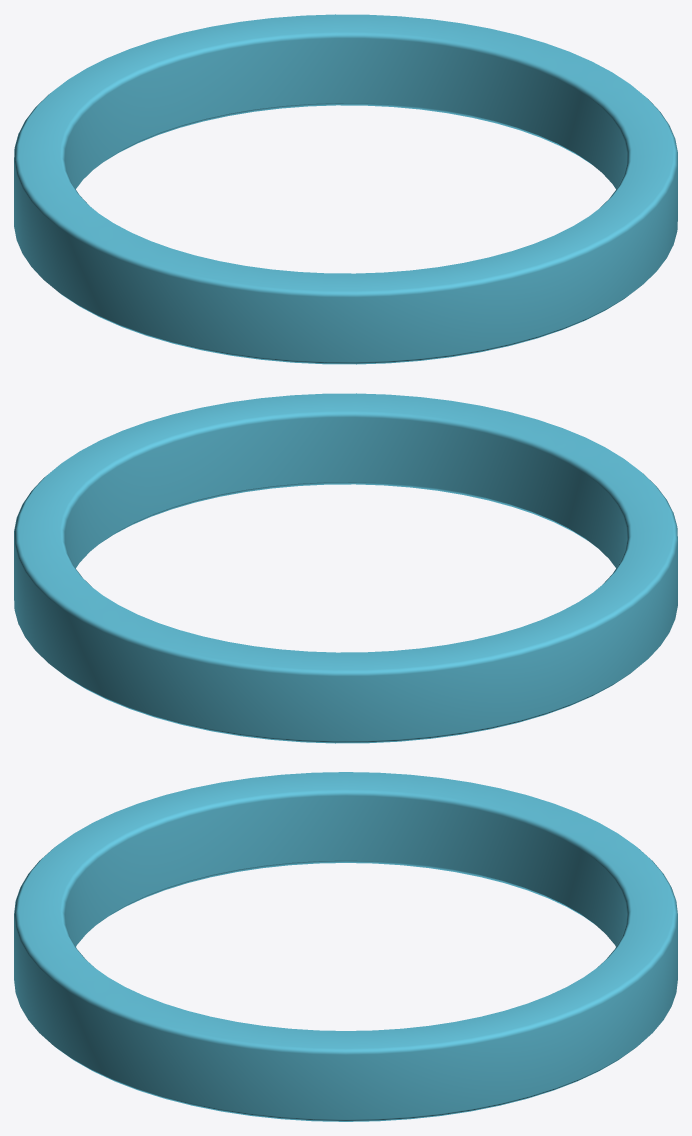
3 views of the same model, one above another, from view 1: azimuth 30°, elevation 25°; view 2: azimuth 150°, elevation 25°; view 3: azimuth 270°, elevation 25° (orthographic).
Visible parts, largest first — view 1: seal_body; view 2: seal_body; view 3: seal_body.
Part boxes in pixels (x1,y1,x2,y2): seal_body: (14,14,677,364); seal_body: (14,393,677,743); seal_body: (14,772,677,1121).
Bounding box in the file's own units: 0.13 × 0.0159 × 0.13.
